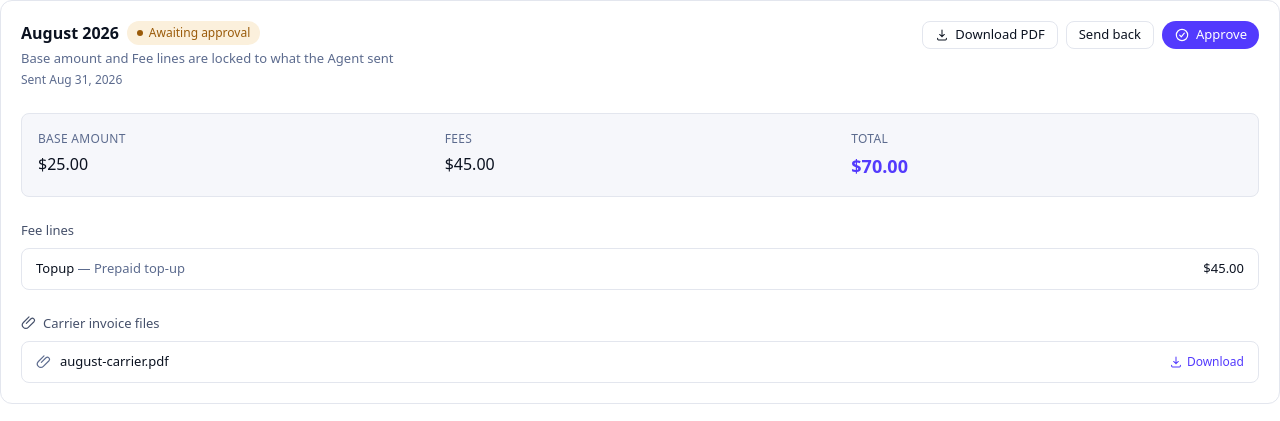
Test: ClientInvoiceDetailView › shows the final read-only state in place once approval succeeds
Step 1. Click the button "Approve" → (1210, 35), box [1162,21,1259,49]
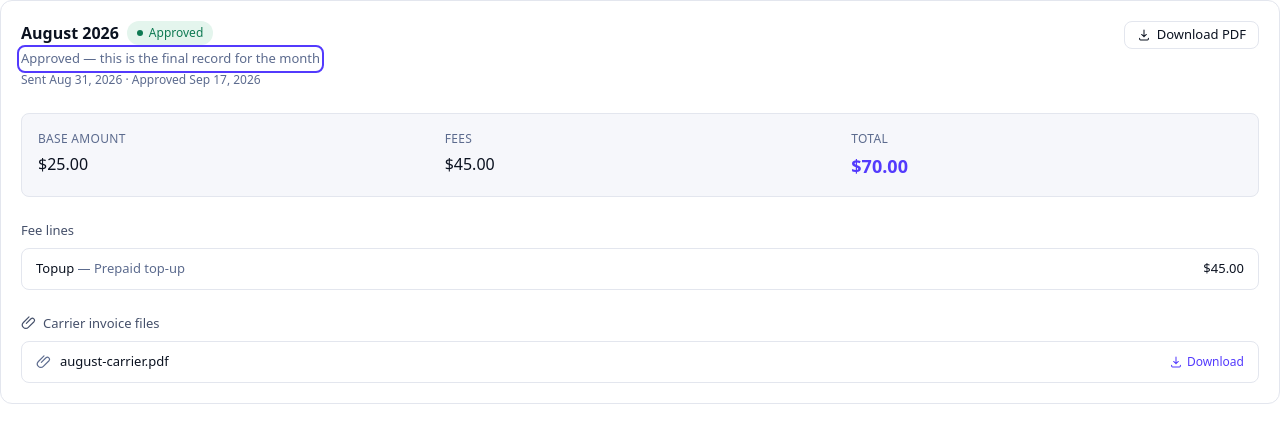
Expected: the text "Approved" is shown, [127,21,213,45]
Expected: the text "Sent Aug 31, 2026 · Approved Sep 17, 2026" is shown, [21,70,261,88]
Expected: the text "Awaiting approval" is gone
